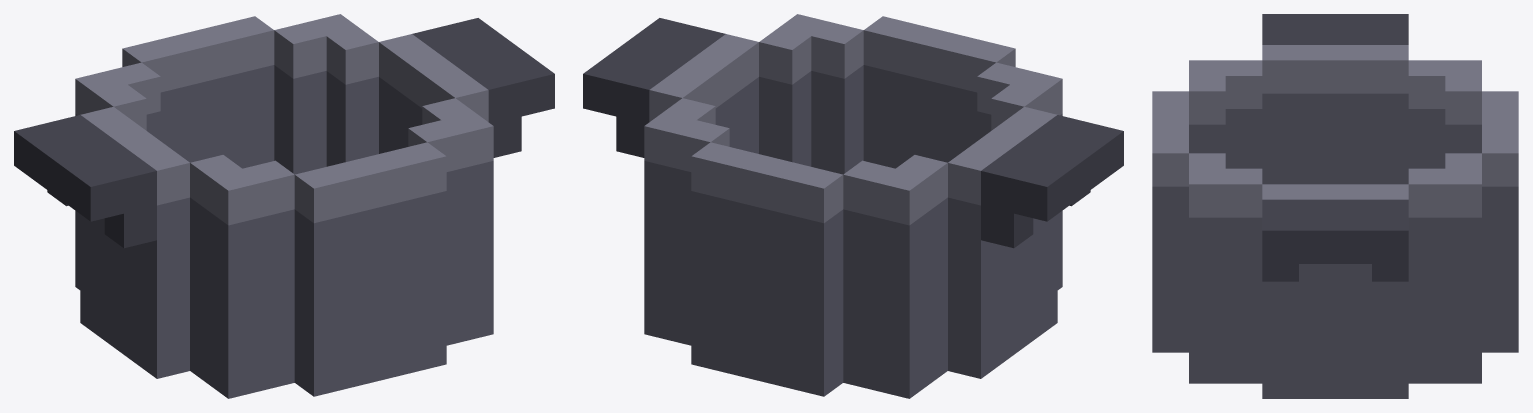
Rendered from Tool.obj.
The picture shows the model from 3 angles, left to right: view 1: azimuth 30°, elevation 25°; view 2: azimuth 150°, elevation 25°; view 3: azimuth 270°, elevation 25°; orthographic projection. The views are drawn at different scales.
Bounding box in the file's own units: 1.4 × 0.6 × 1.
Materials: 1 (1 with a texture image).
